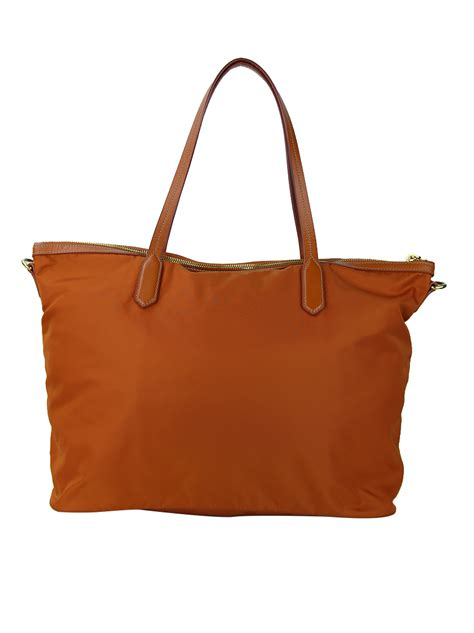nylon: (29, 241, 434, 519)
